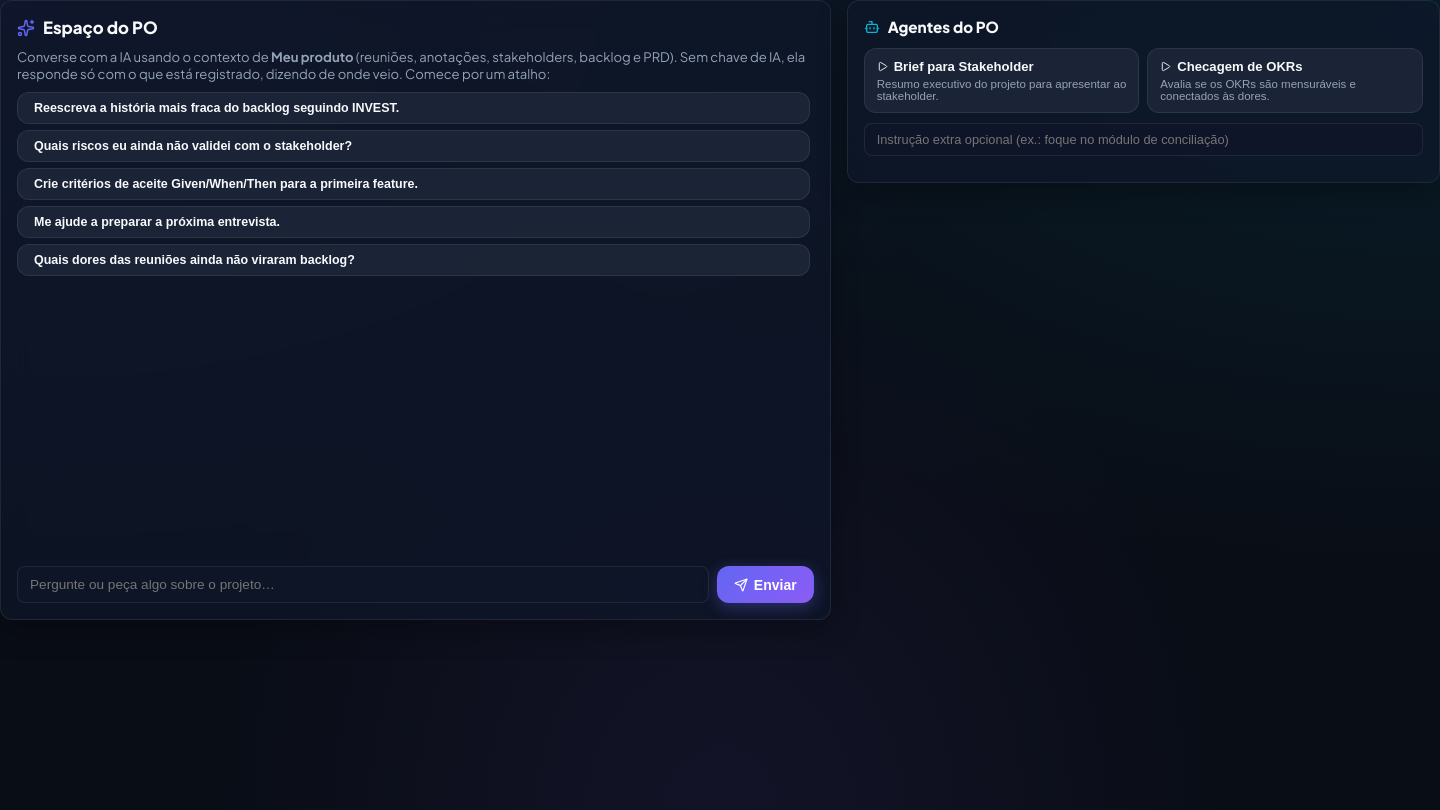
POSpaceView: chat sem chave de IA › quando não há registro, diz que não encontrou em vez de mostrar erro
The width and height of the screenshot is (1440, 810).
Type "Qual o orçamento aprovado?" into the field with placeholder "Pergunte ou peça algo sobre o projeto…" at (363,584), box [17,566,709,603]
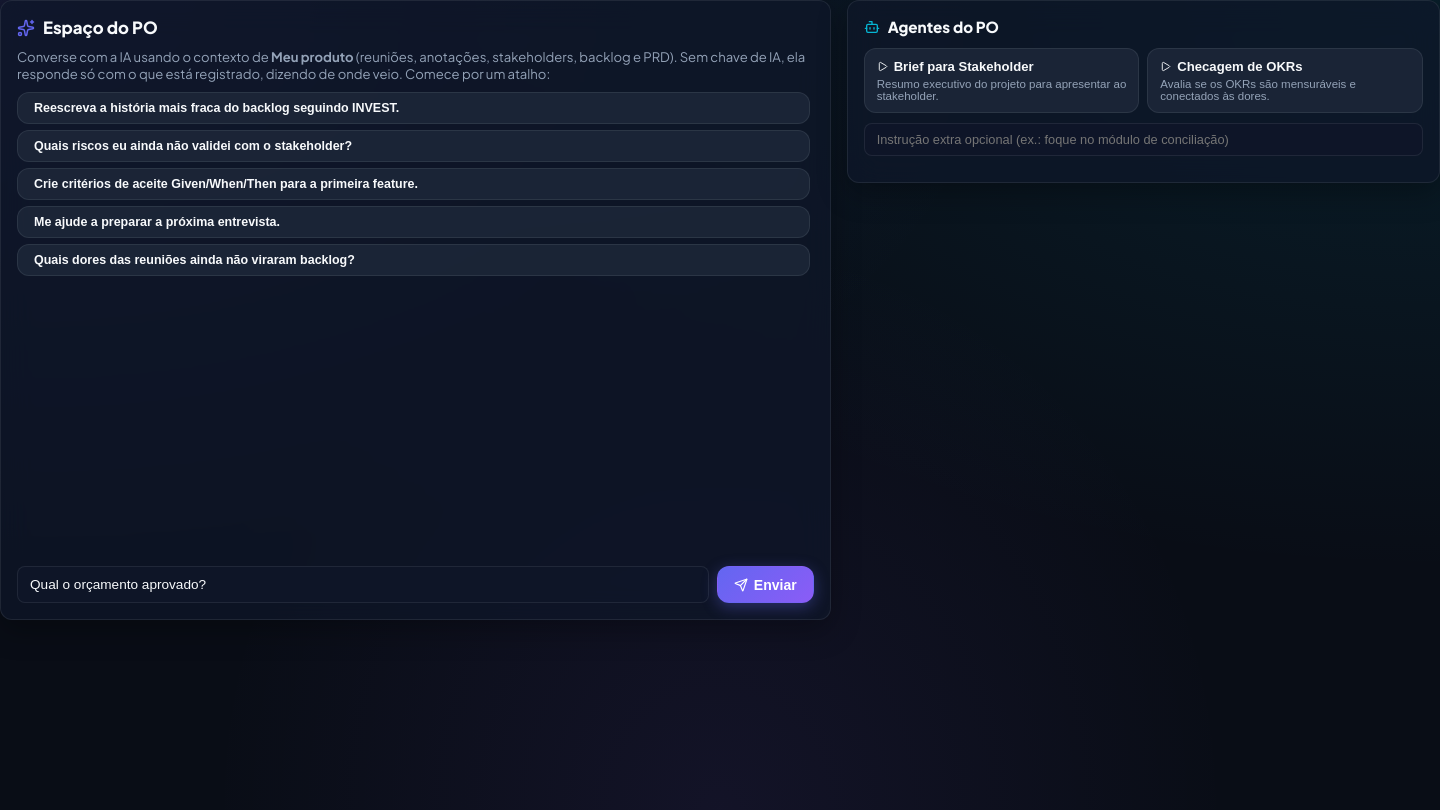
Click the button "Enviar" at (765,584), box [717,566,814,603]
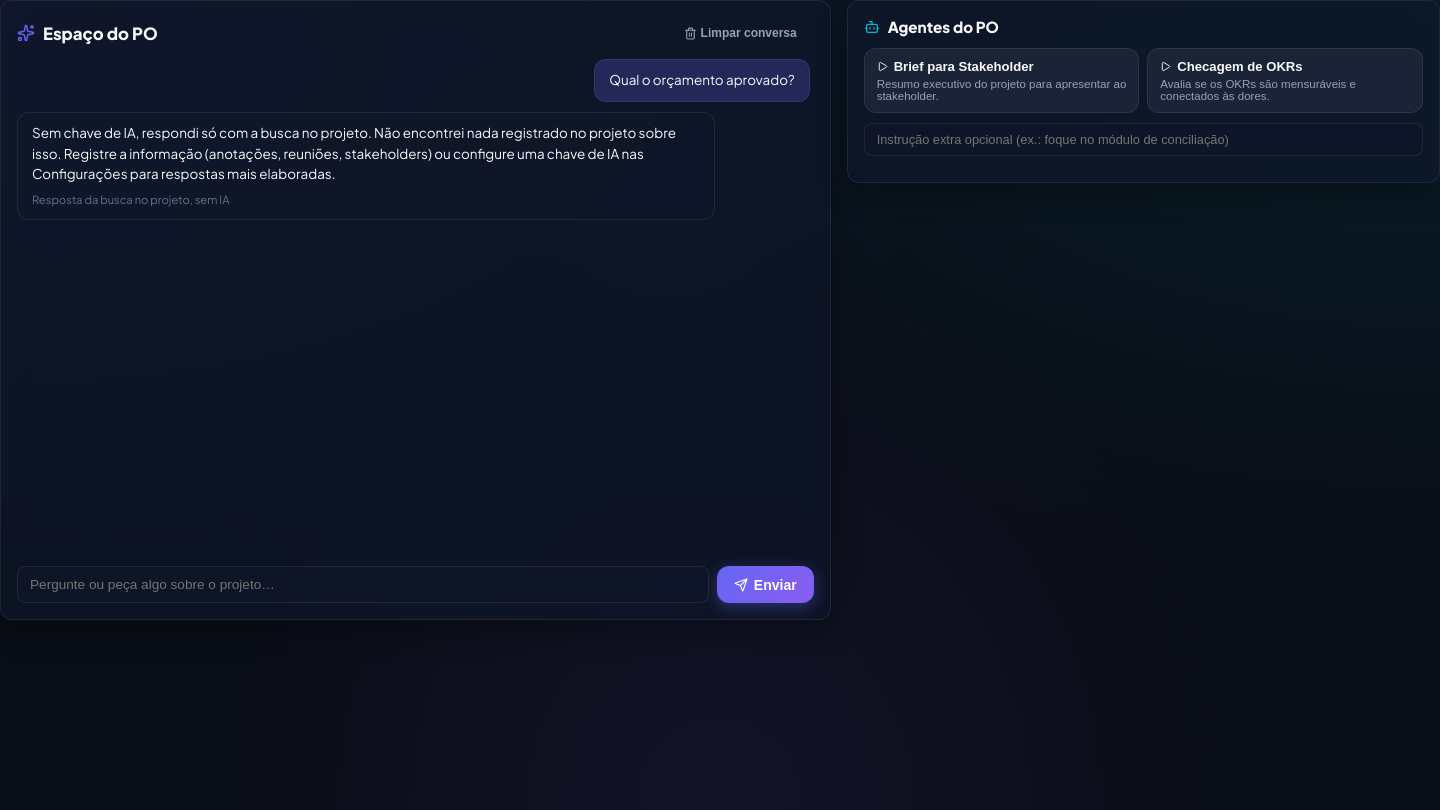
expect the text "Não encontrei nada registrado" is shown: met, box [32,124,678,182]
